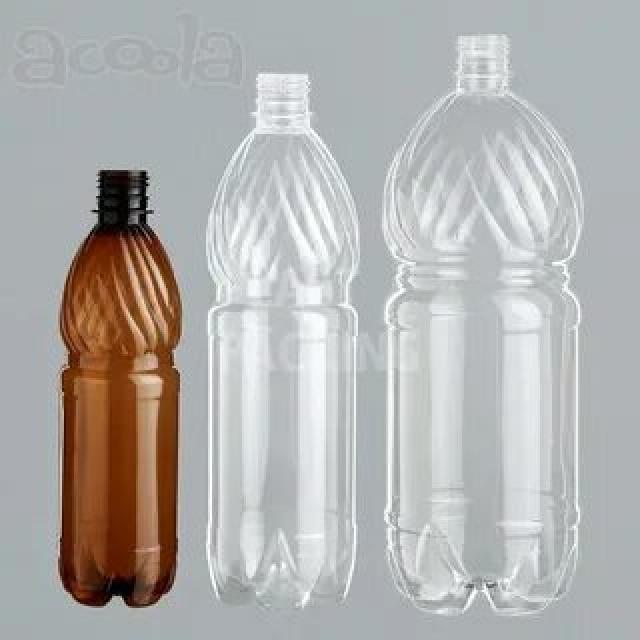brown: (58, 172, 182, 606)
